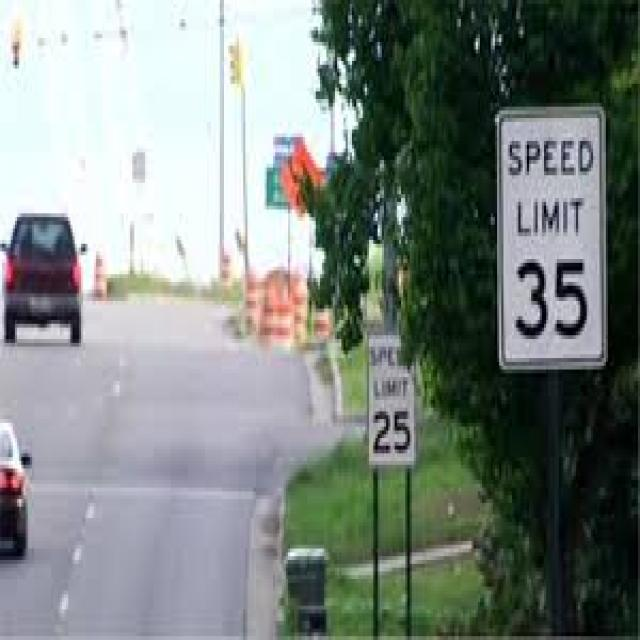speedLimit35: (496, 101, 607, 372)
